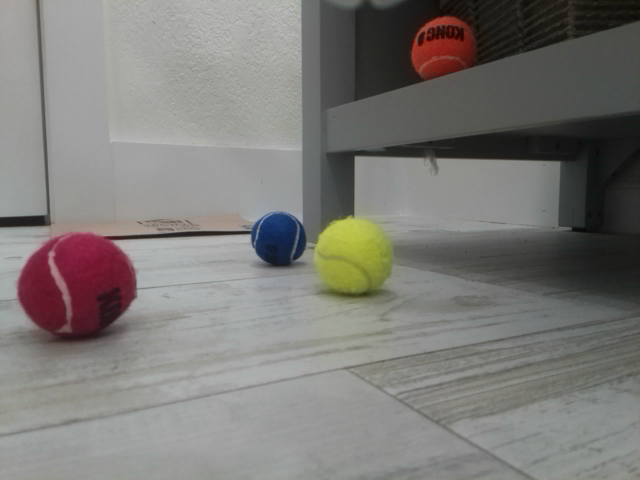blue-ball: (250, 211, 308, 267)
orange-ball: (410, 13, 477, 83)
red-ball: (17, 231, 137, 341)
yellow-ball: (314, 216, 394, 297)
